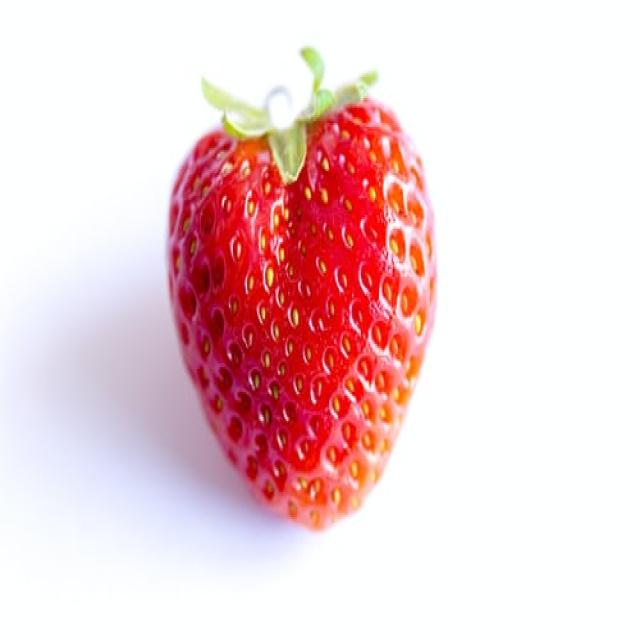mature: (164, 99, 438, 532)
